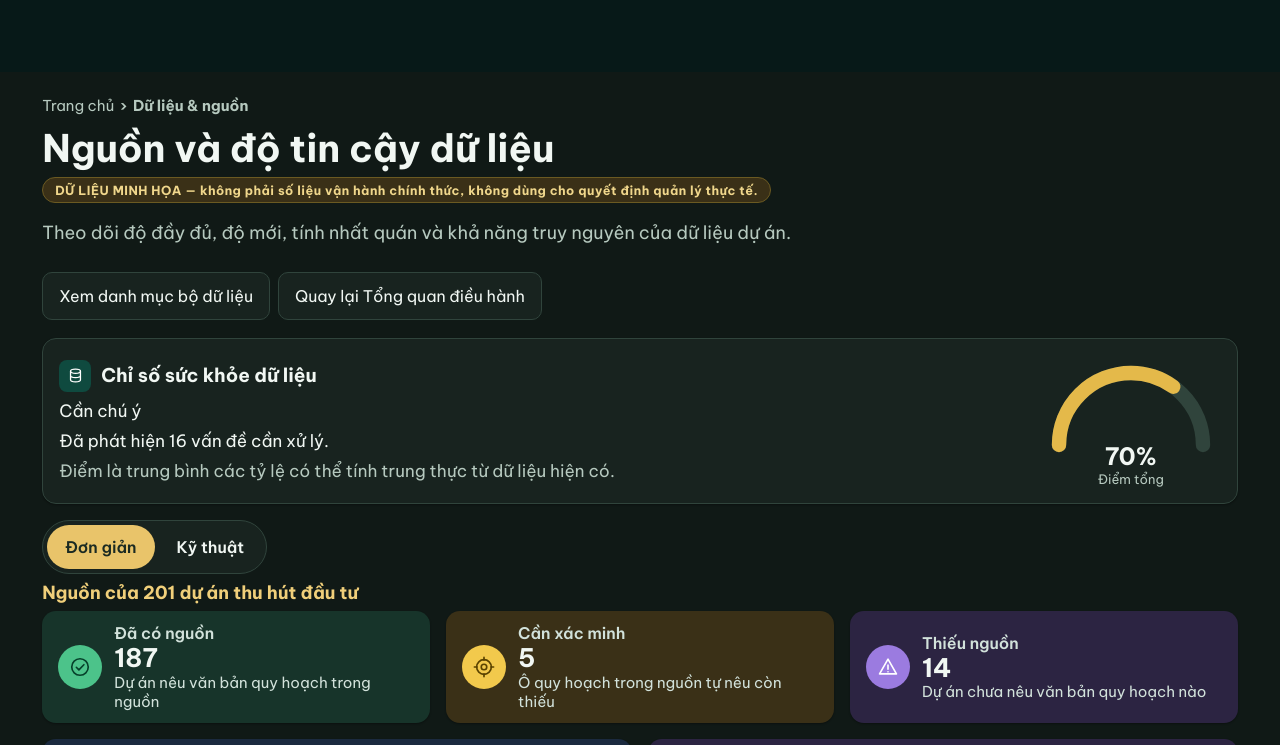
Test: DataReadinessView › chế độ Kỹ thuật mở danh mục nguồn, bảng cảnh báo và chi tiết truy xuất
This screenshot has width=1280, height=745.
Click the button "Kỹ thuật" at (210, 547), box [158, 525, 262, 569]
(page scrolled)
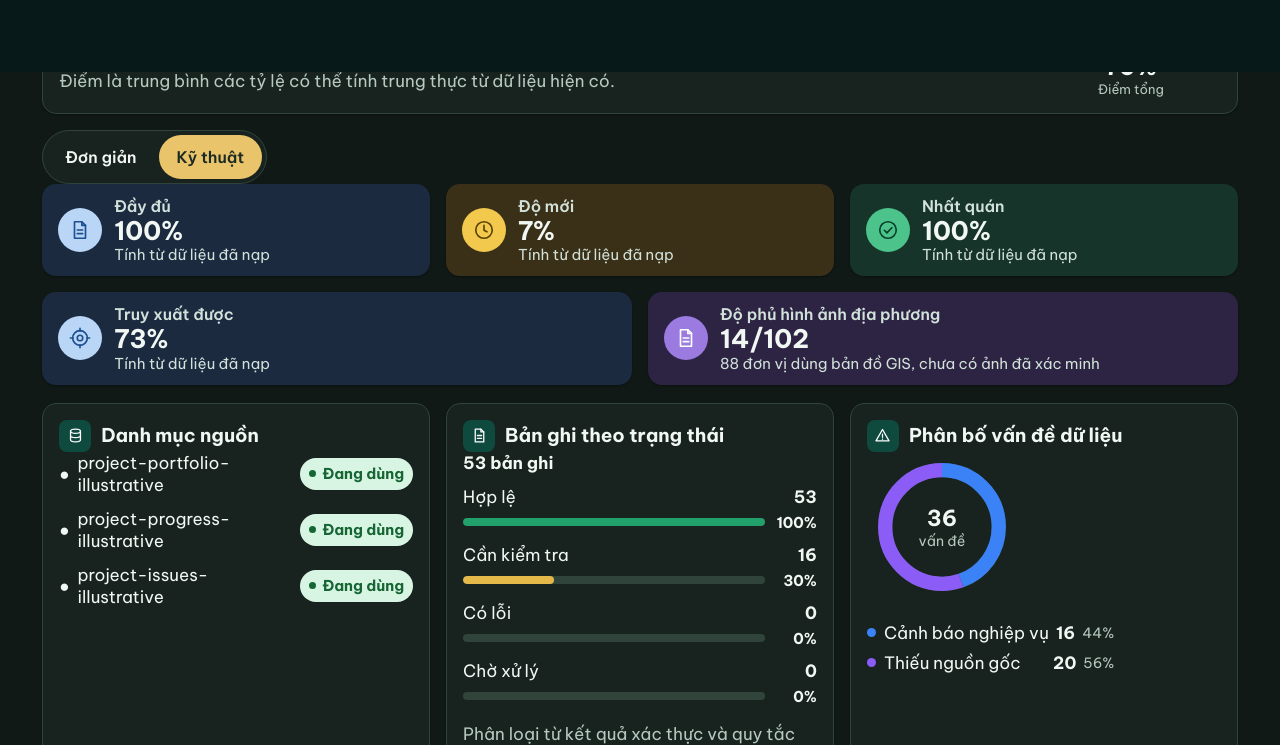
Now the heading "Danh mục nguồn" is shown, box [101, 424, 259, 448]
